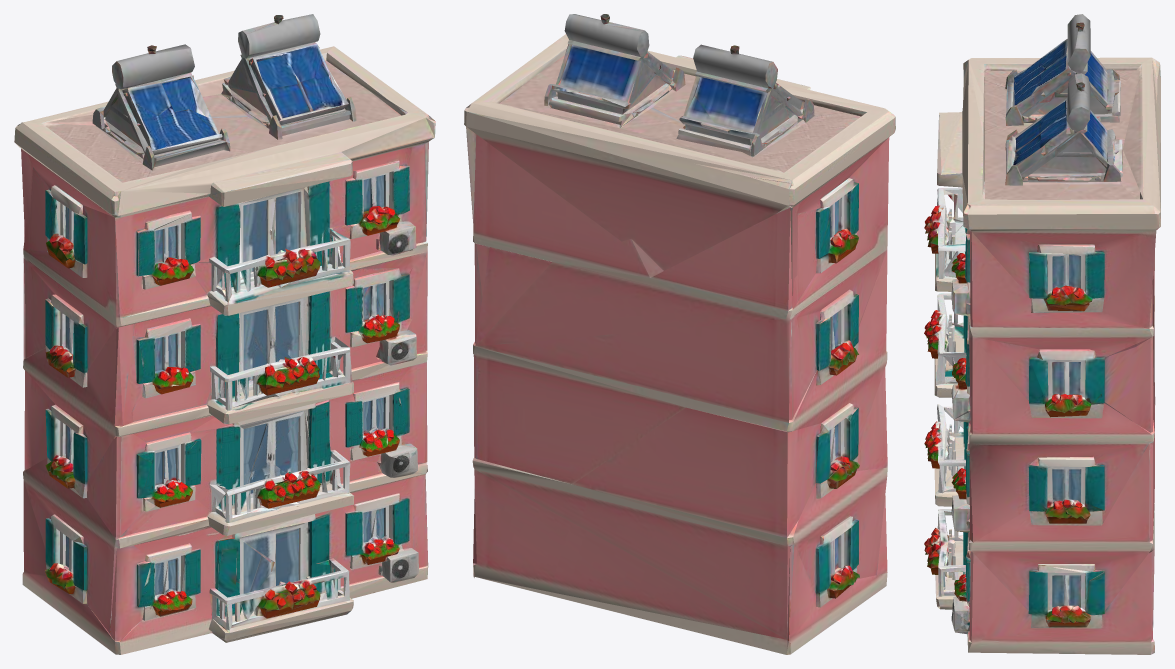
File: b_pink.glb
3 renders of one model, left to right at view 1: azimuth 30°, elevation 25°; view 2: azimuth 150°, elevation 25°; view 3: azimuth 270°, elevation 25°, orthographic. The views are drawn at different scales.
Bounding box in the file's own units: 1.25 × 1.9 × 0.7739.
1 material, 1 textured.
